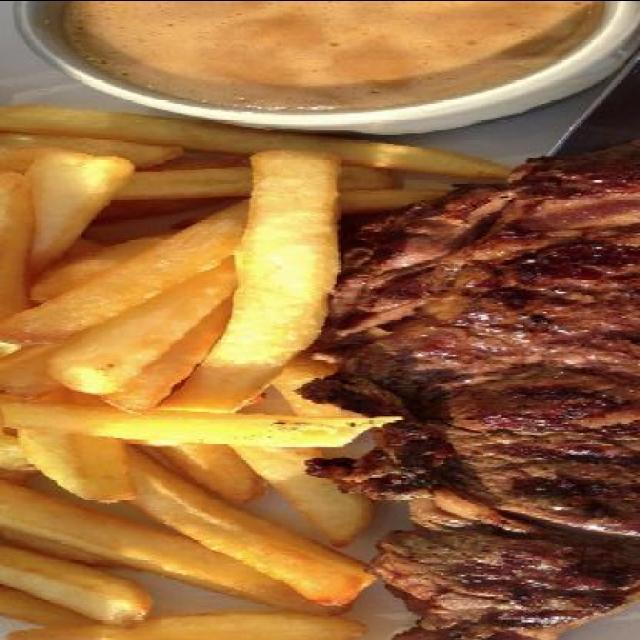French fries: (0, 106, 502, 640)
